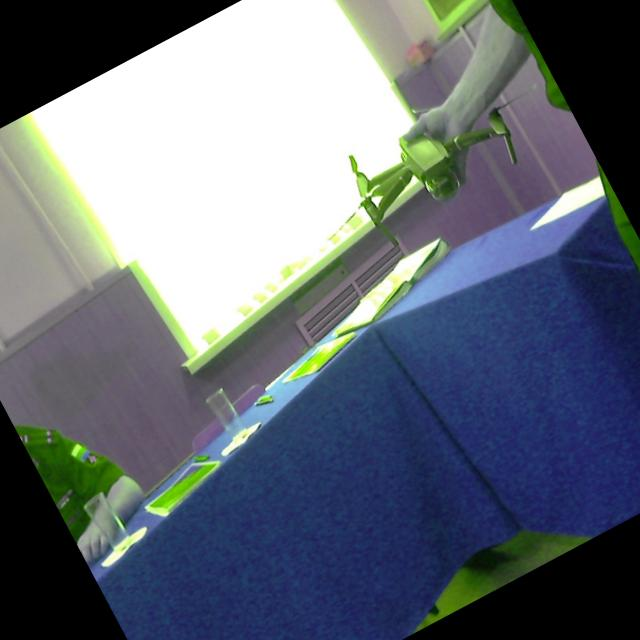drone: (320, 60, 541, 244)
